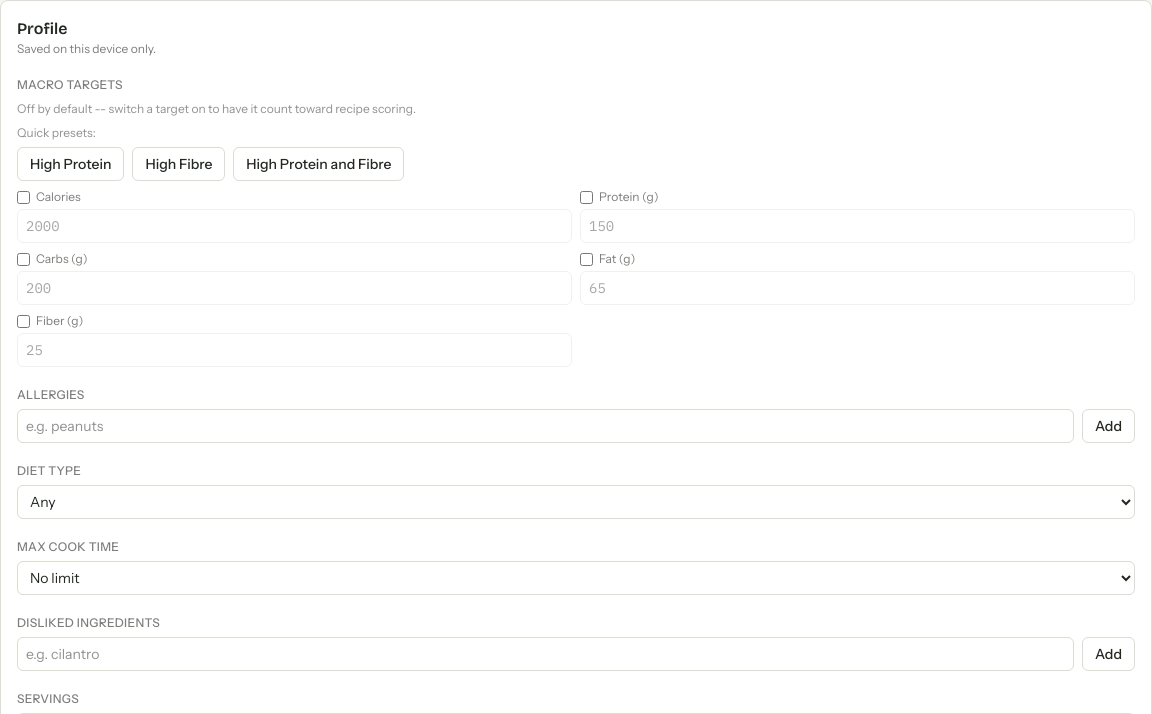
Test: ProfileForm macro presets › 'High Fibre' sets fiber to 40g/enabled and leaves every other macro + its enabled flag untouched
Step 1. Click the button "High Fibre" → click(179, 164), box [132, 147, 225, 181]
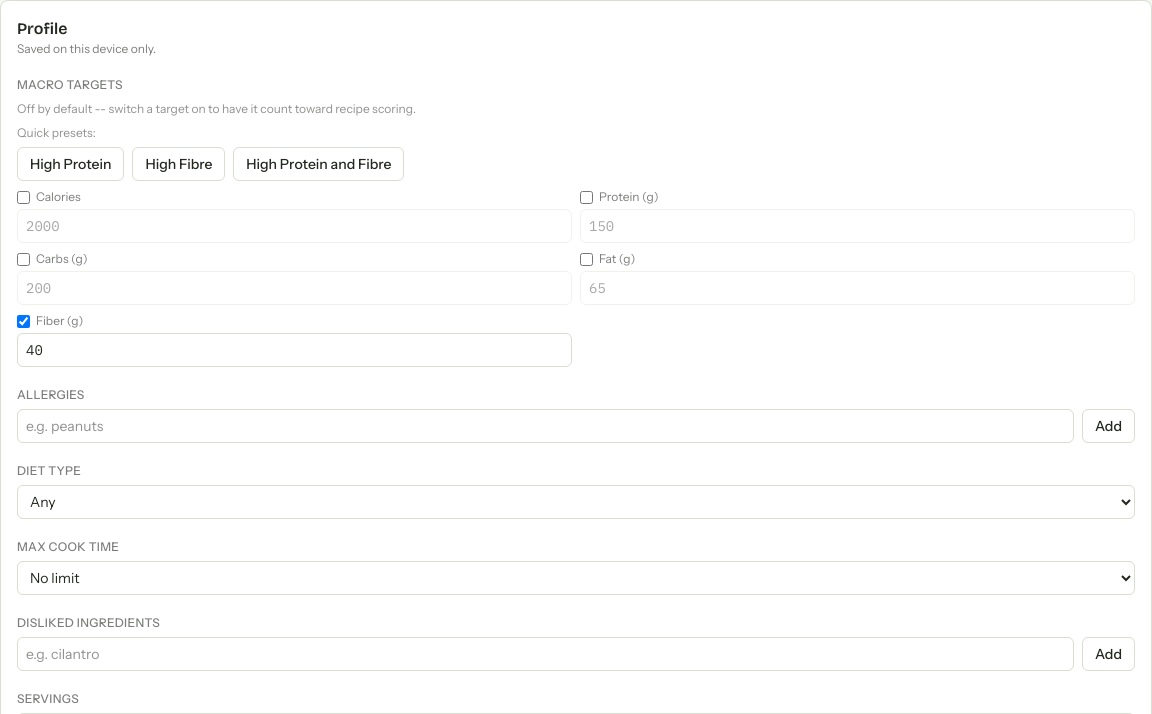
Expected: the checkbox named "Enable Fiber (g) target" is checked, [17, 314, 30, 328]
Expected: the number field named "Fiber (g)" below "Fiber (g)" holds "40", [17, 333, 572, 367]
